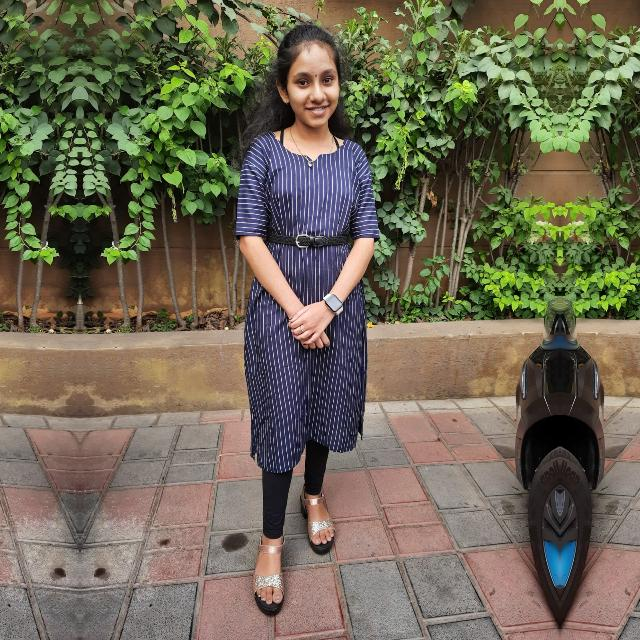person: (246, 22, 376, 614)
